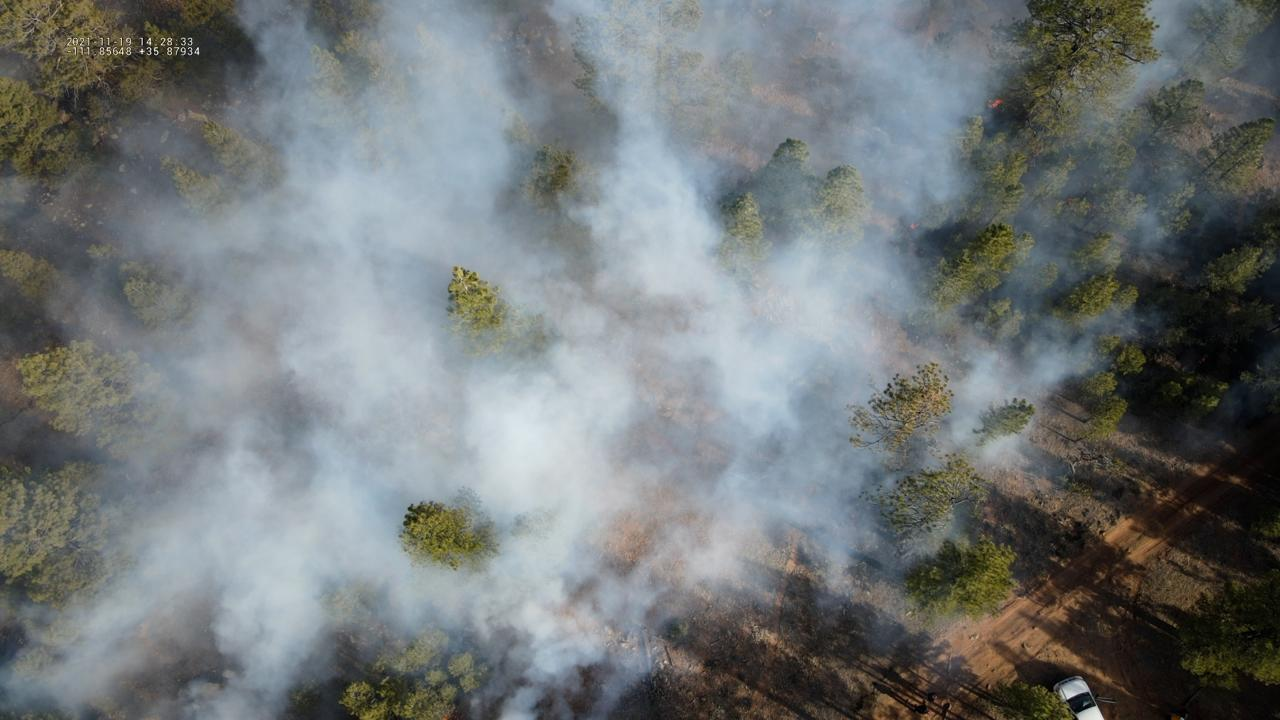fire: (987, 97, 1005, 113), (910, 221, 919, 229)
smoke: (0, 0, 1280, 720)
